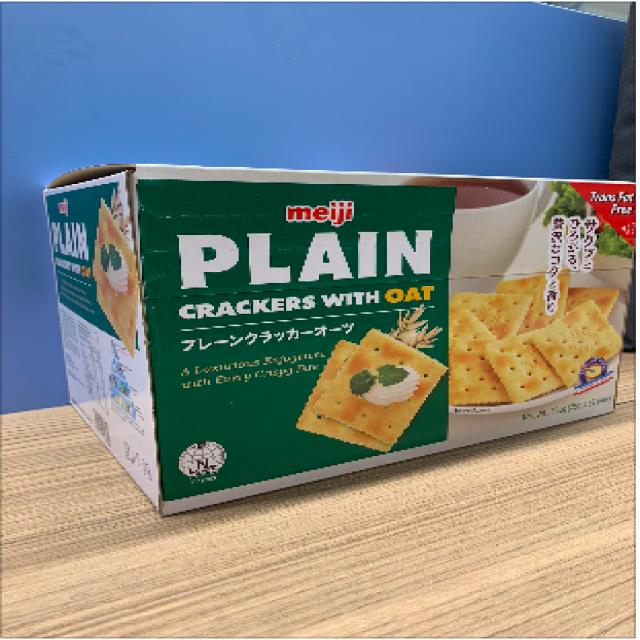object_name: (56, 165, 631, 504)
